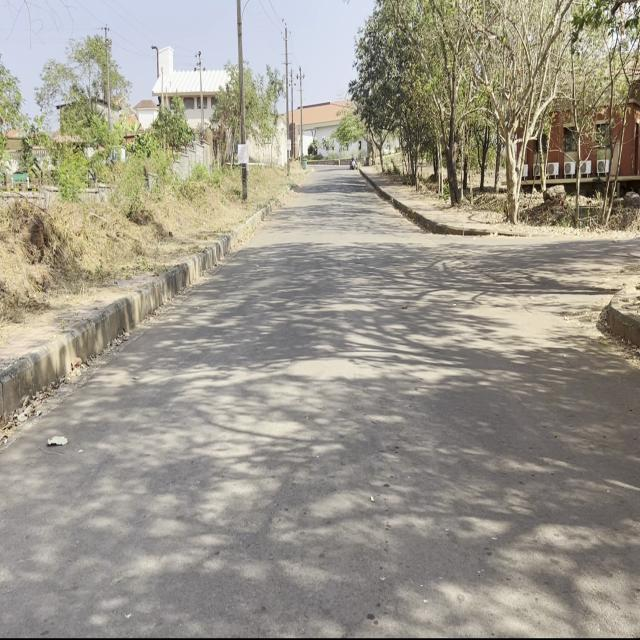Road: (4, 165, 636, 629)
